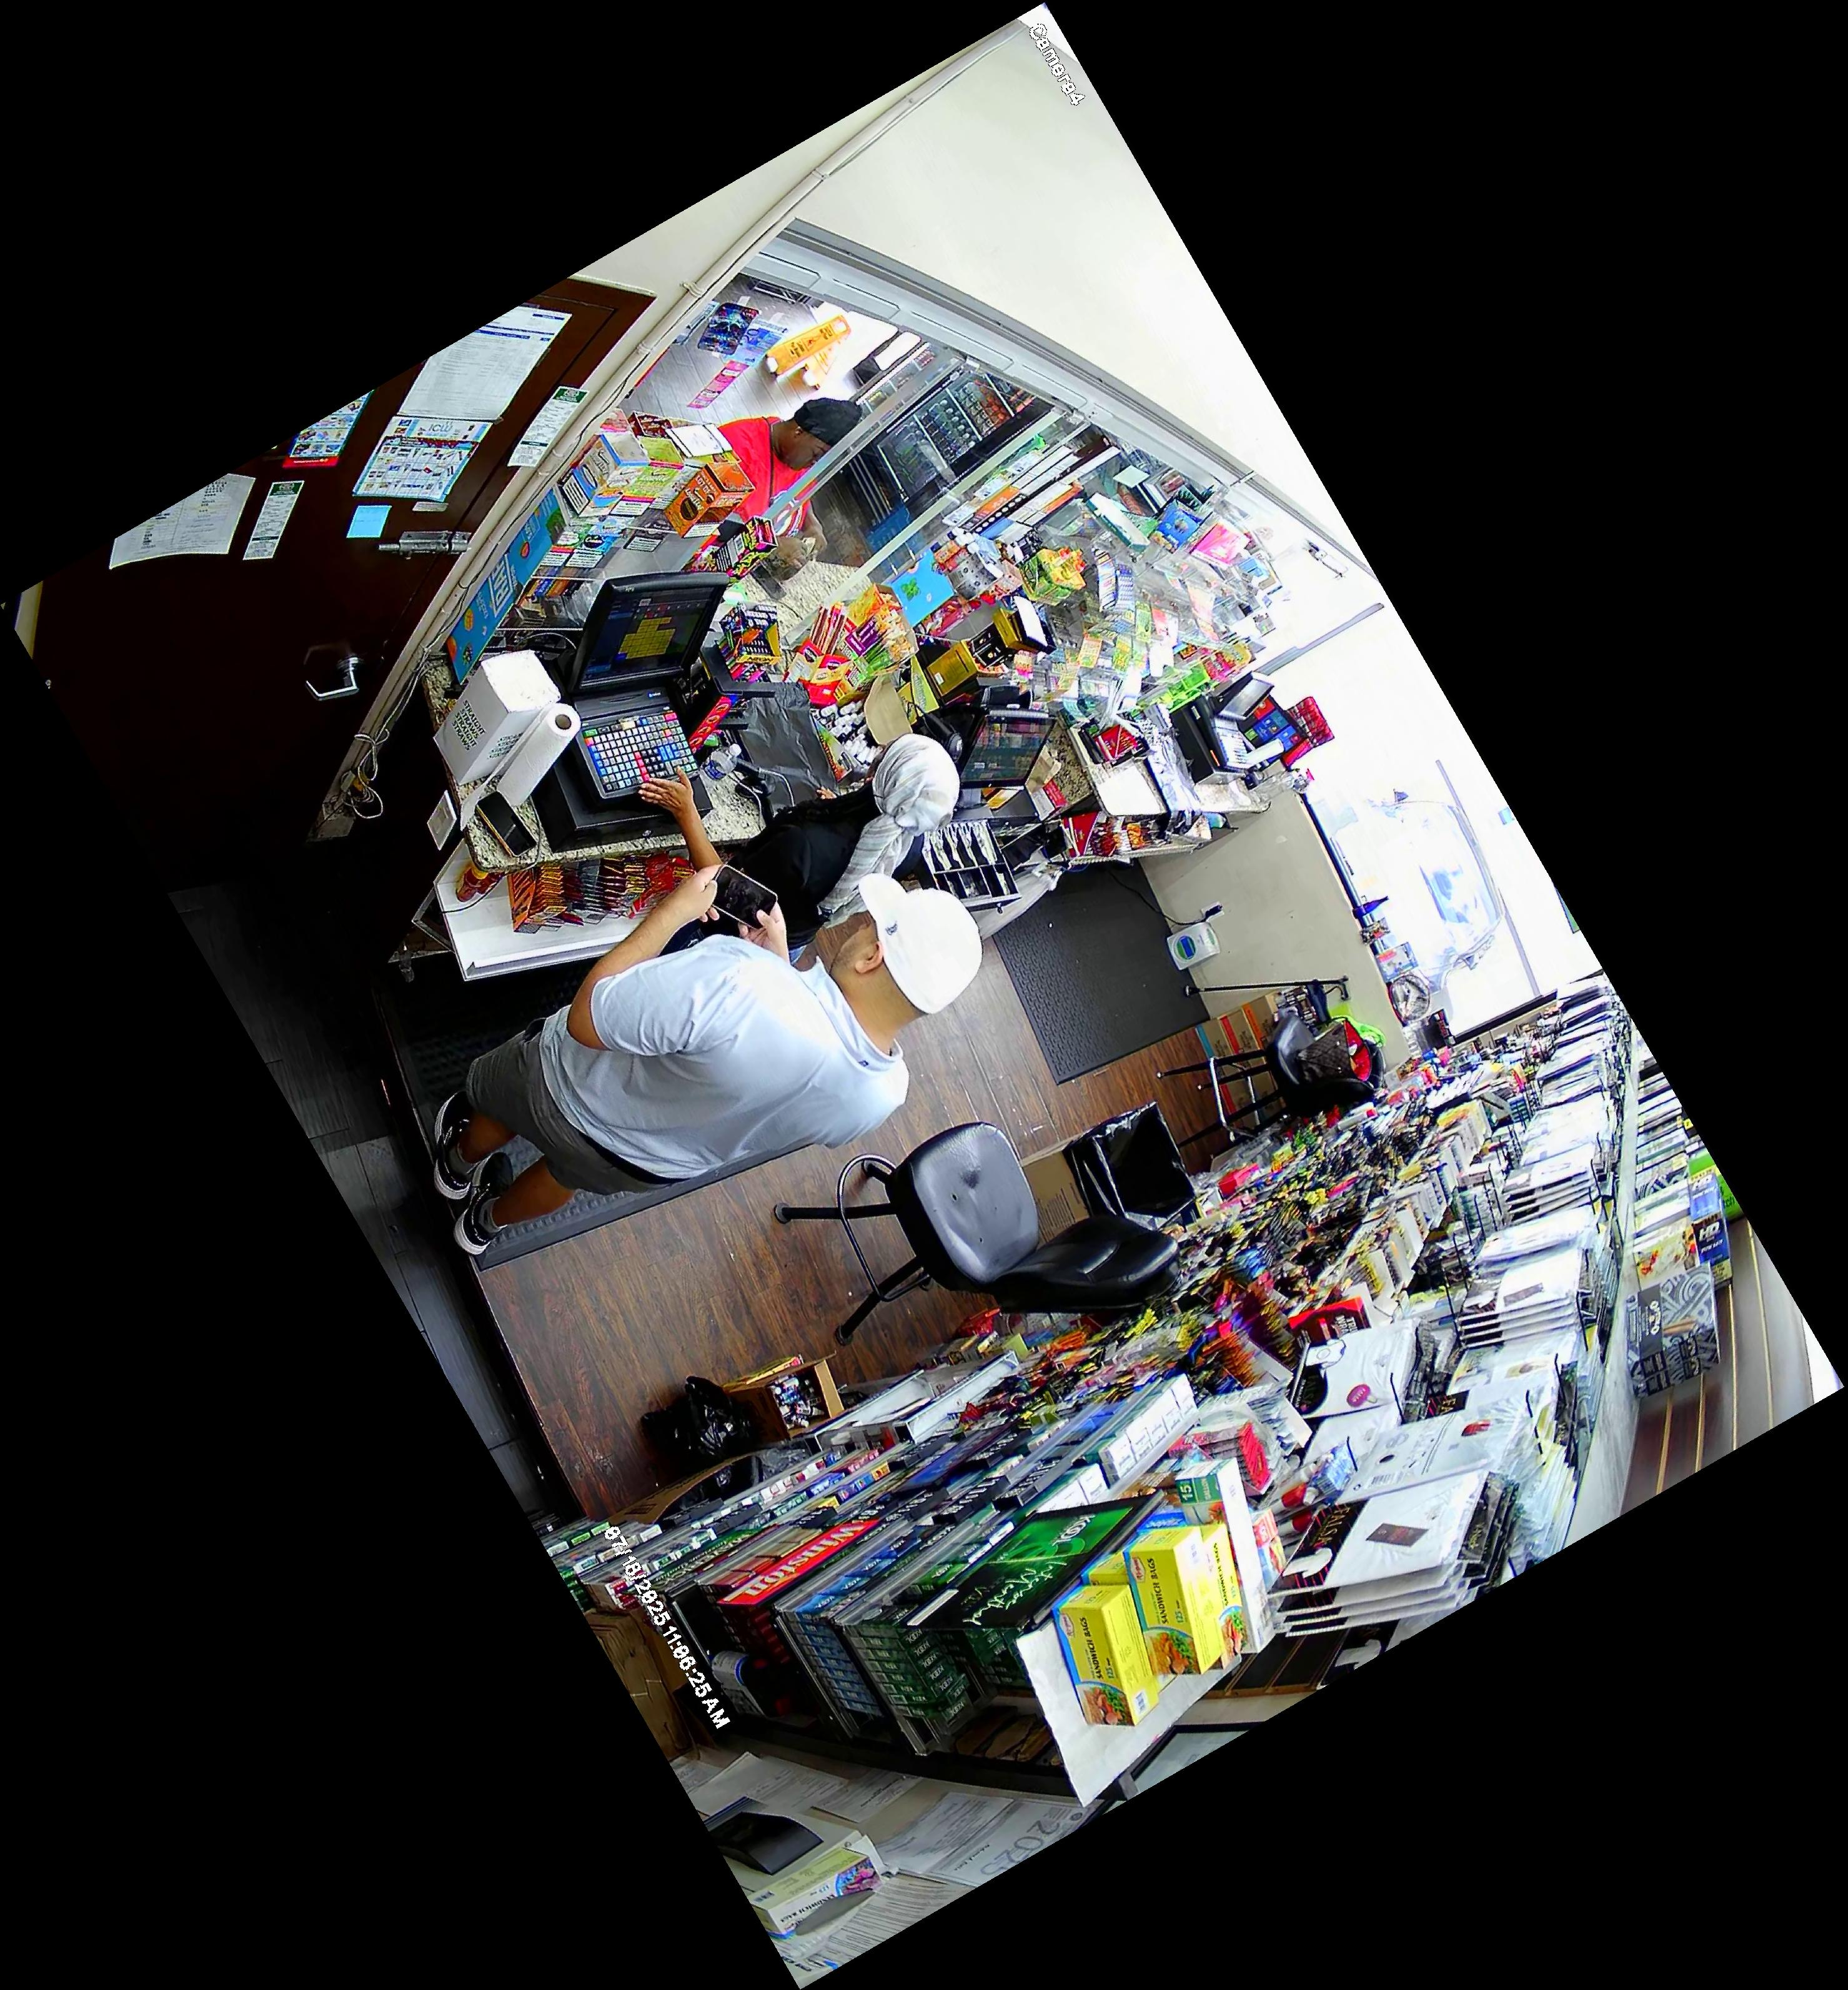phone: (696, 851, 789, 938)
